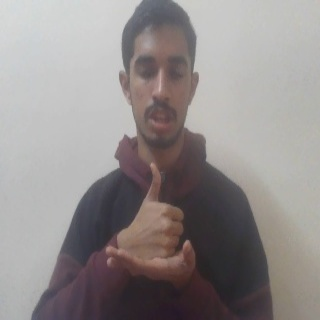Face: (117, 3, 202, 151)
Help: (102, 161, 197, 285)
